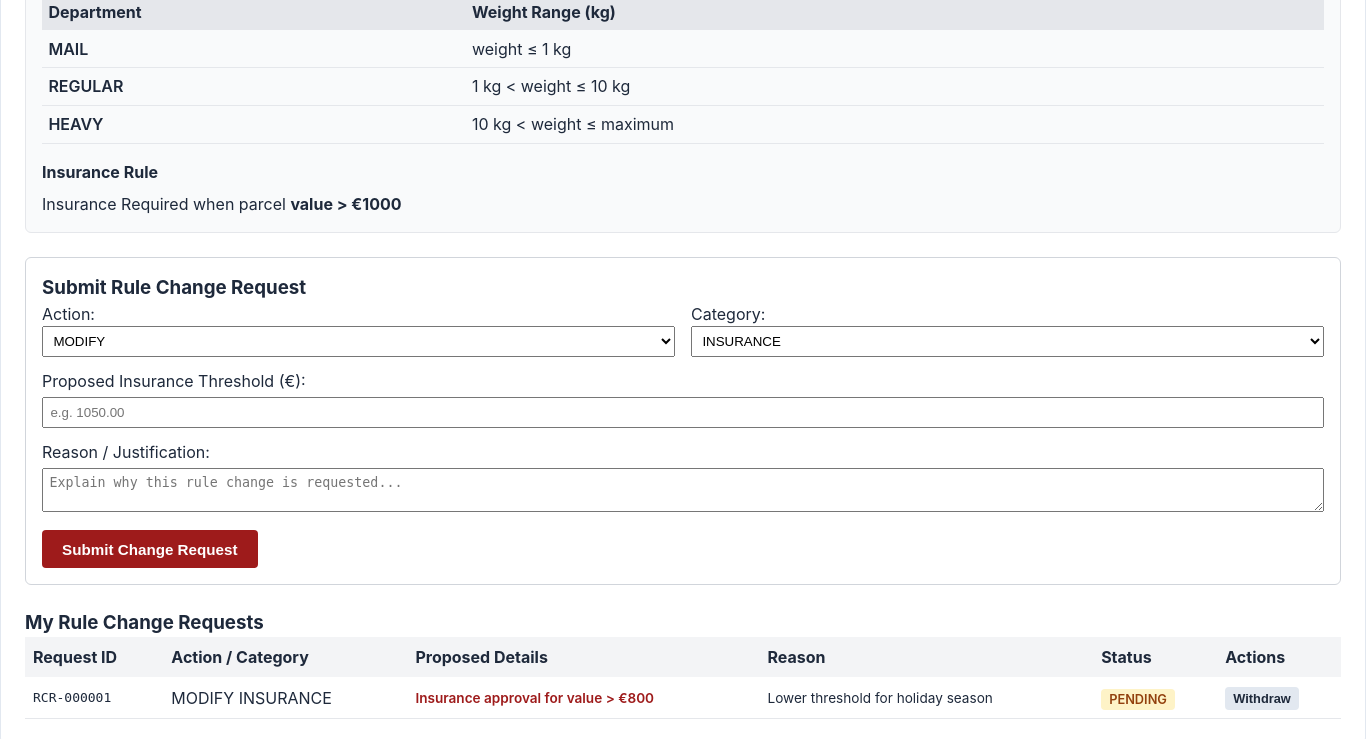
Test: Phase 5 — Rule Management Frontend Components › 4. Operator form displays validation error when submitting with empty reason
The image size is (1366, 739).
(page scrolled)
Click the button "Submit Change Request".
click(150, 549)  # box [42,530,258,568]
(page scrolled)
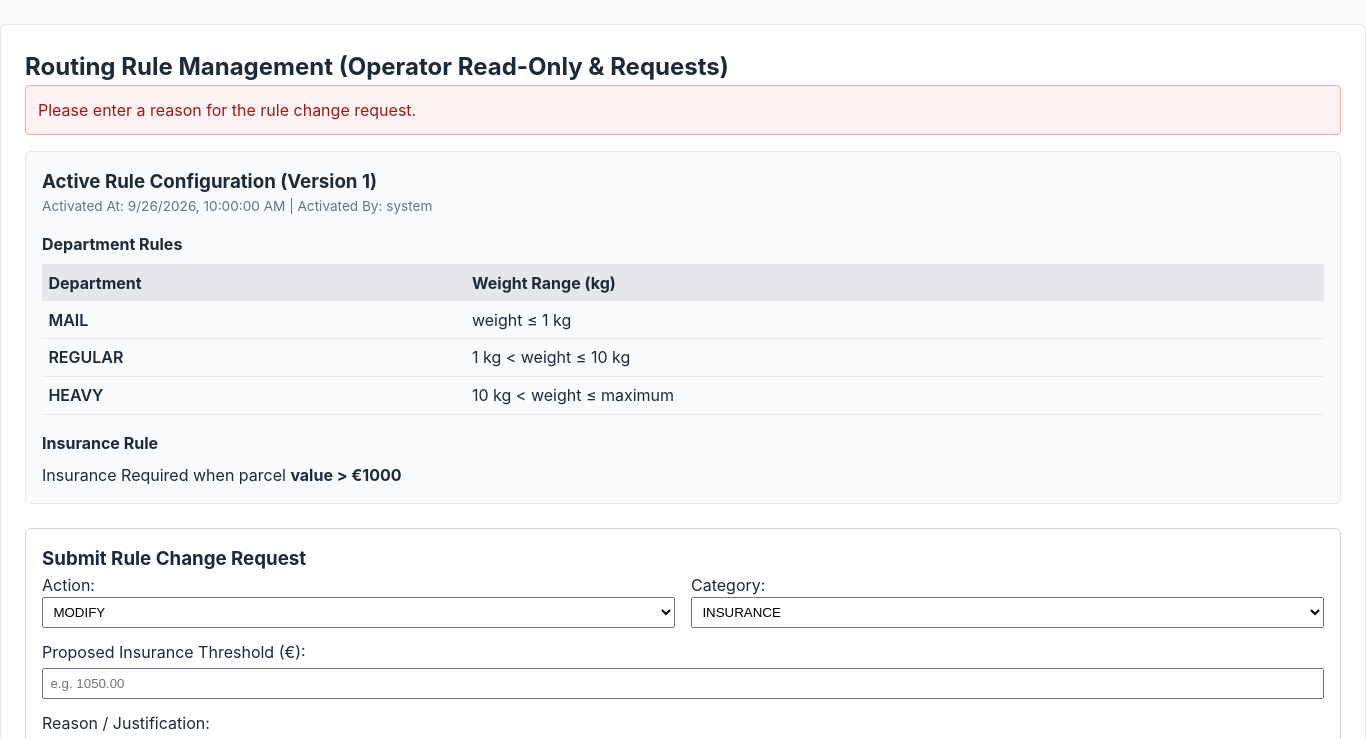
Now the text "Please enter a reason for the rule change request." is shown, box [25,85,1341,135]
